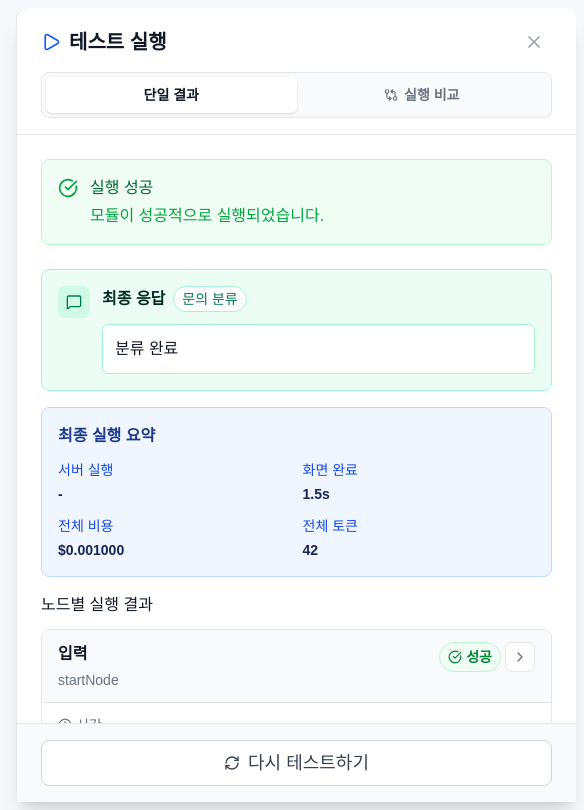
Test: TestSidebar node execution details › LLM 노드가 아닌 실행 결과 카드와 상세에는 비용·토큰을 표시하지 않는다
This screenshot has width=584, height=810.
Expected: the text "입력" is shown, left=58, top=645, right=88, bottom=662
Click the button named "입력 상세 보기". click: (520, 657)
box: left=505, top=642, right=535, bottom=672
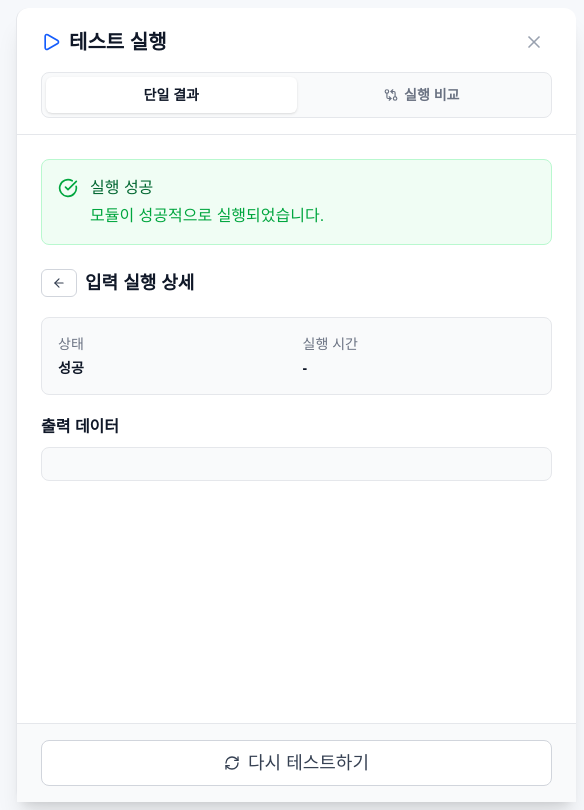
Expected: the heading "입력 실행 상세" is shown, left=85, top=269, right=194, bottom=297
Expected: the text "실행 시간" is shown, left=302, top=336, right=358, bottom=352
Expected: the text "비용" is gone
